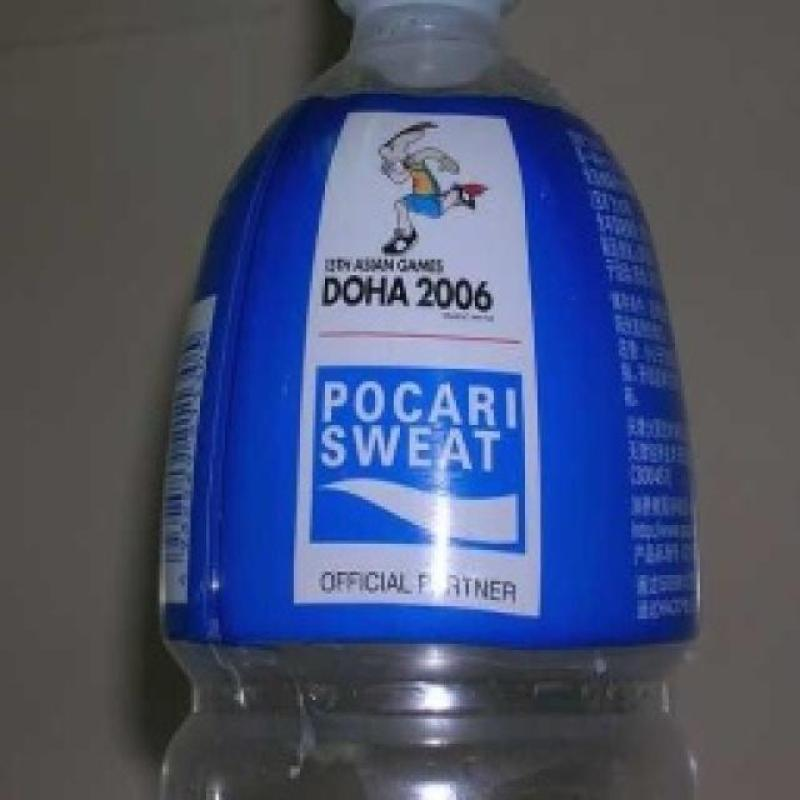botella: (164, 0, 708, 800)
